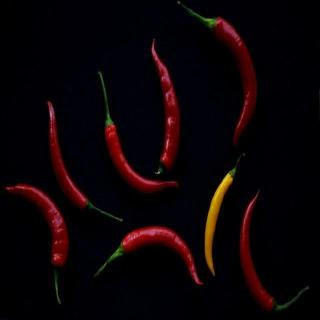Cabai Merah: (178, 1, 258, 146), (98, 71, 180, 193), (47, 101, 124, 223), (240, 189, 310, 313), (6, 184, 70, 305), (94, 226, 204, 286), (151, 37, 179, 175)
